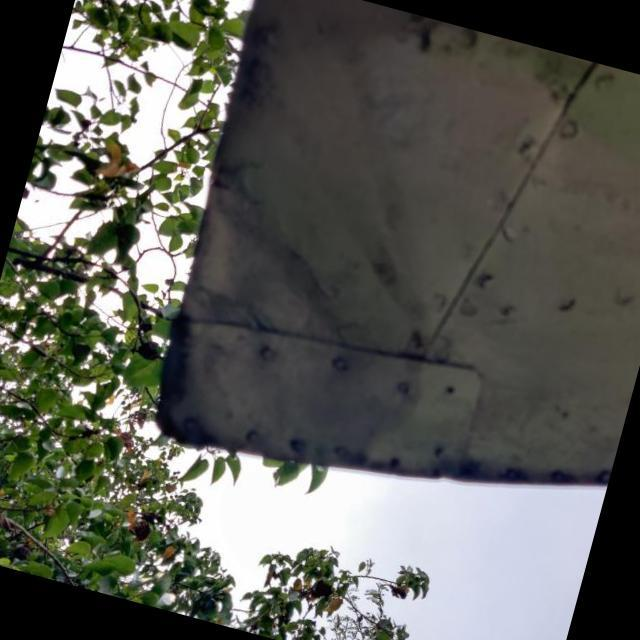Dent: (146, 143, 401, 390)
